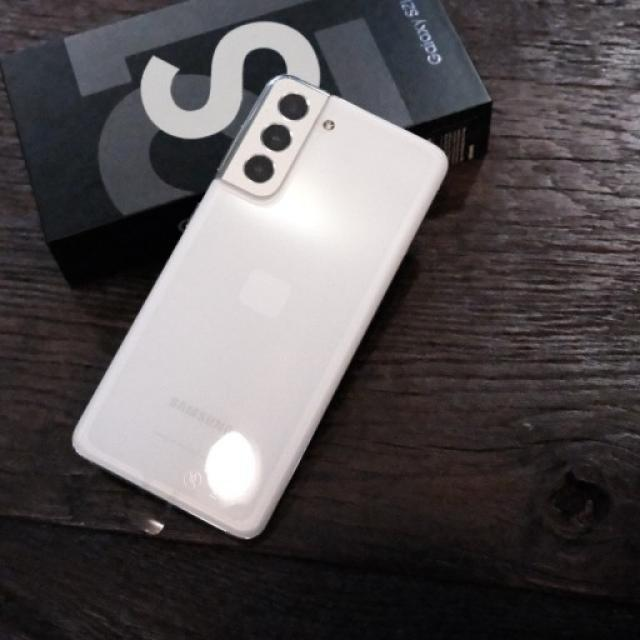phone: (74, 74, 450, 537)
